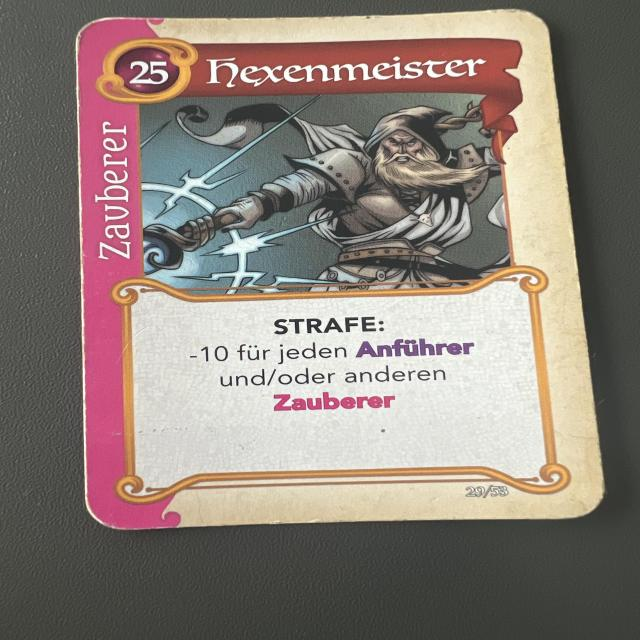Warlock Lord: (72, 7, 616, 534)
